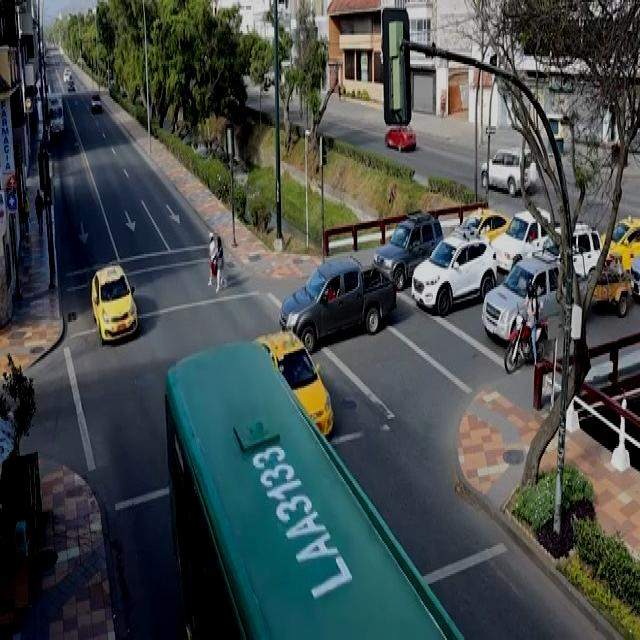CMT: (282, 261, 398, 347)
